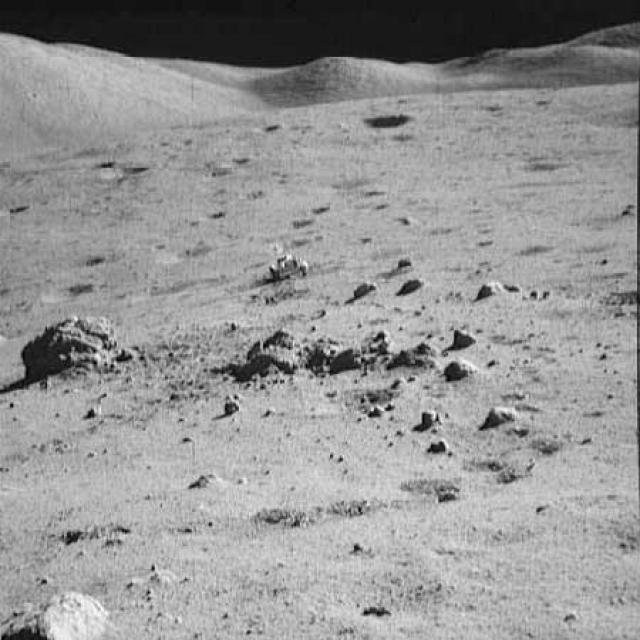artifact: (251, 234, 321, 287)
crater: (358, 112, 418, 136), (90, 158, 152, 179)
rock: (16, 301, 126, 380), (232, 321, 306, 380), (47, 580, 112, 639), (314, 332, 364, 374), (400, 330, 440, 372), (481, 397, 521, 433), (369, 324, 396, 370), (444, 355, 481, 383), (467, 276, 503, 303), (343, 273, 378, 298), (413, 406, 443, 435), (449, 323, 480, 347), (394, 272, 428, 293), (427, 433, 454, 458), (396, 252, 420, 266)
